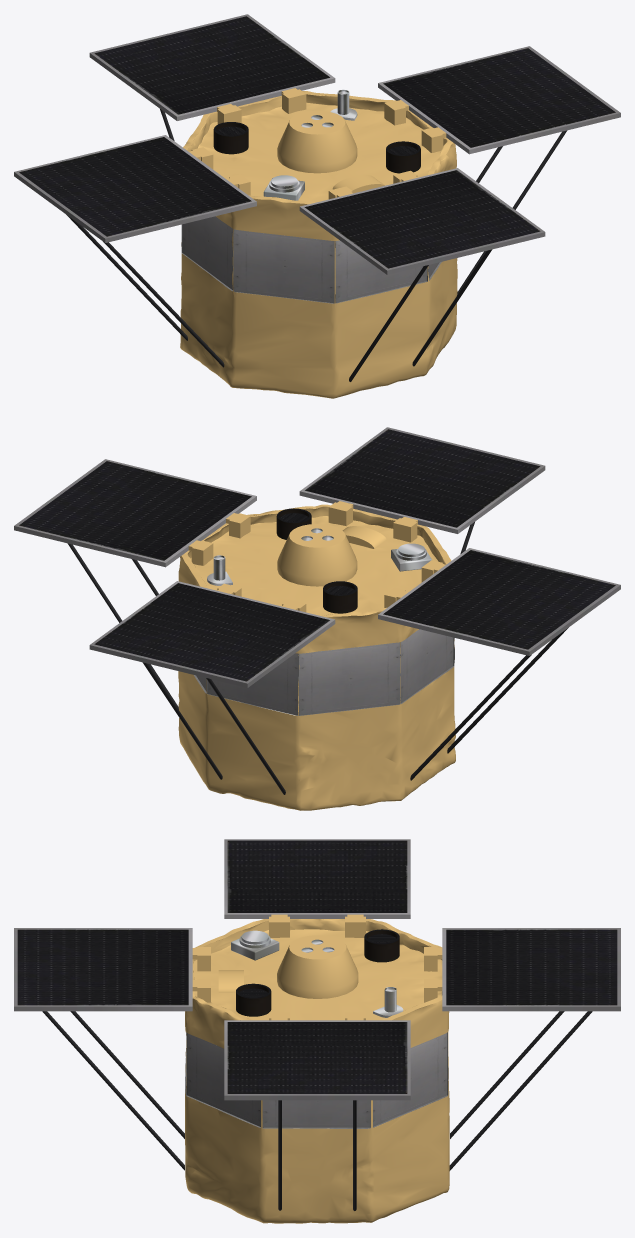
File: acrimsat.glb
The picture shows the model from 3 angles, top to bottom: view 1: azimuth 30°, elevation 25°; view 2: azimuth 150°, elevation 25°; view 3: azimuth 270°, elevation 25°; orthographic projection.
Parts seen in each view (by area): view 1: shiny_panel, foil_gold, black_krinkle; view 2: shiny_panel, foil_gold, black_krinkle; view 3: shiny_panel, foil_gold, black_krinkle.
Boxes of the visible parts, bbox=[...] form: shiny_panel: bbox=[14, 14, 620, 303]; foil_gold: bbox=[180, 88, 457, 398]; black_krinkle: bbox=[66, 109, 567, 381]; shiny_panel: bbox=[14, 427, 620, 715]; foil_gold: bbox=[178, 501, 455, 810]; black_krinkle: bbox=[67, 522, 568, 794]; shiny_panel: bbox=[14, 839, 620, 1128]; foil_gold: bbox=[185, 914, 449, 1223]; black_krinkle: bbox=[42, 1011, 592, 1210].
Bounding box in the file's own units: 1.78 × 0.7261 × 1.78.
Materials: 3 (1 with a texture image).
